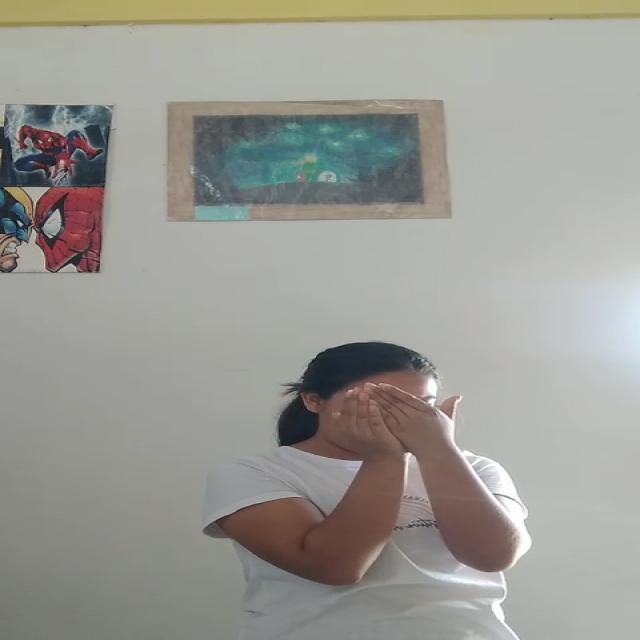7_mano_rostro: (318, 384, 463, 508)
